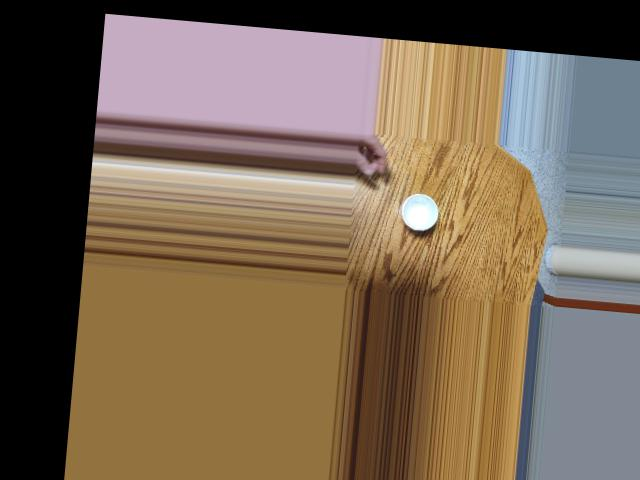cotage: (393, 187, 443, 232)
